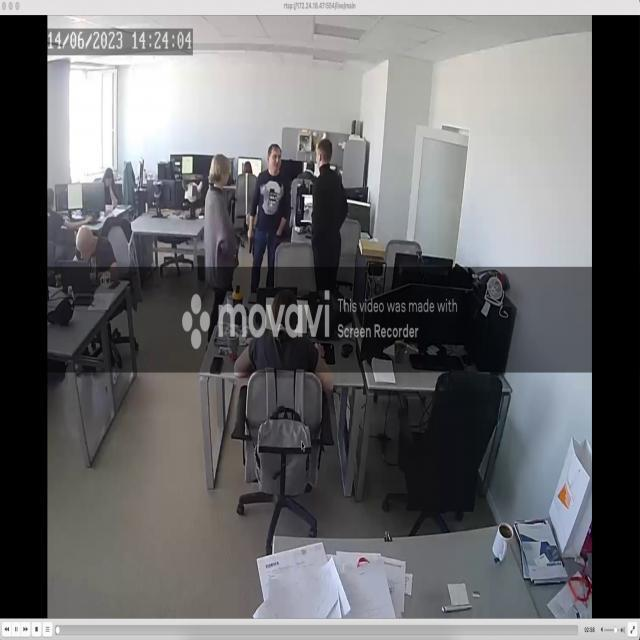pistol: (247, 232, 254, 256)
